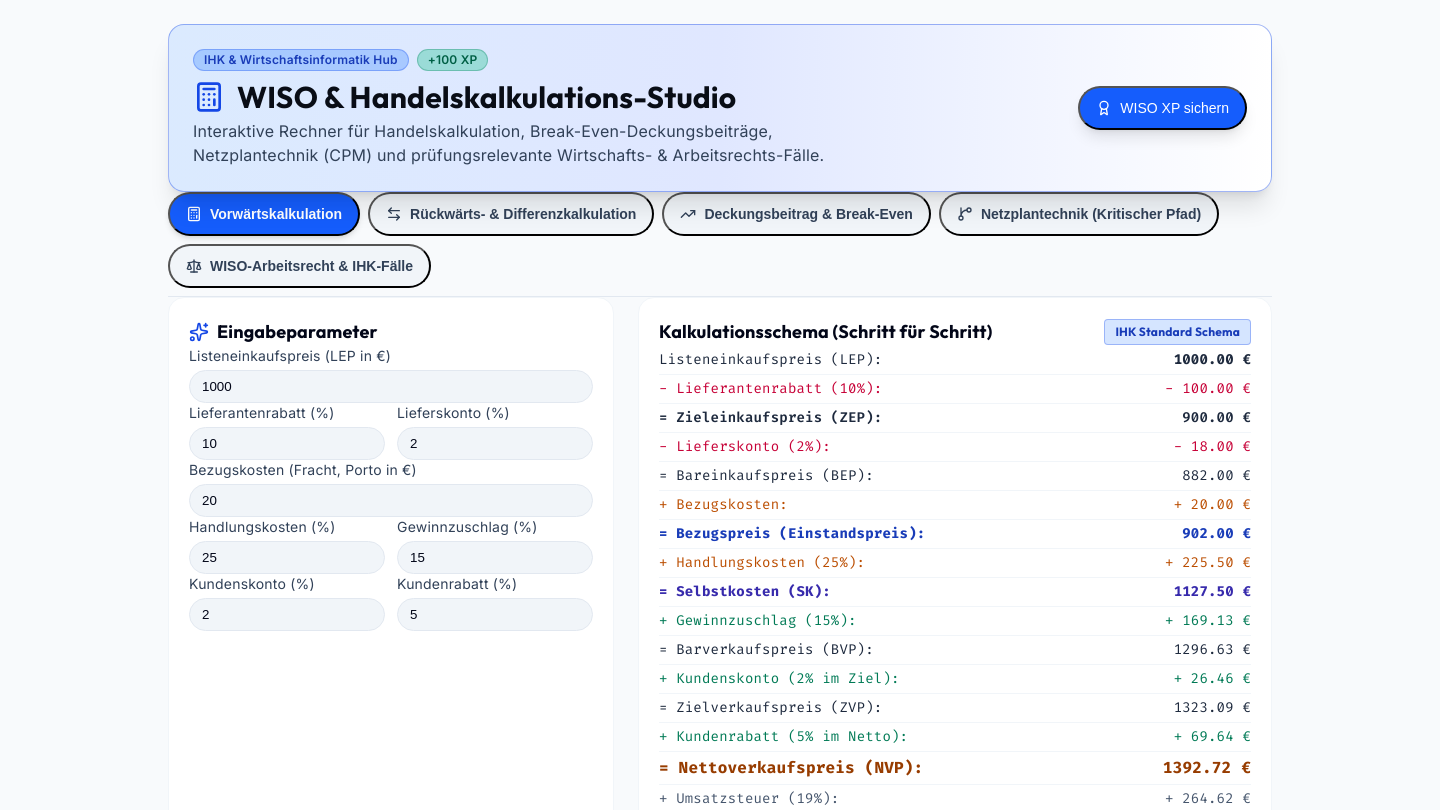
Test: WisoKalkulationLab: Deckungsbeitrag & Break-Even › berechnet Stück-DB, Break-Even-Menge und Betriebsergebnis
Click the button "Deckungsbeitrag & Break-Even" at (797, 214), box x1=662 y1=192 x2=931 y2=236
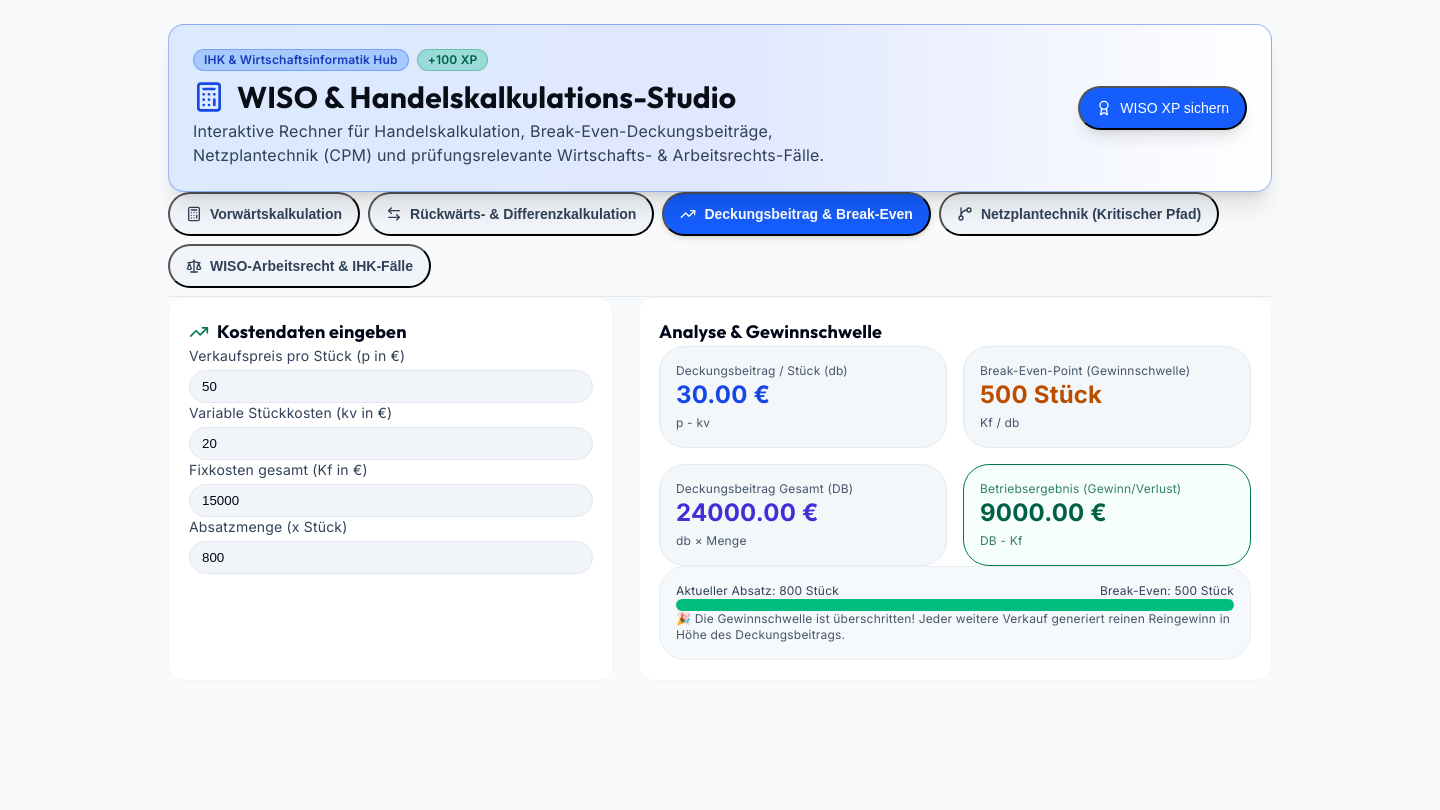
Expected: the text "30.00 €" is shown, x1=676 y1=380 x2=770 y2=409
Expected: the text "500 Stück" is shown, x1=980 y1=380 x2=1102 y2=409
Expected: the text "9000.00 €" is shown, x1=980 y1=498 x2=1107 y2=527
